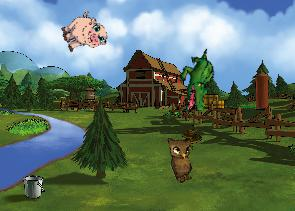crocodile: (174, 48, 221, 114)
owl: (162, 131, 204, 184)
pig: (57, 8, 110, 59)
